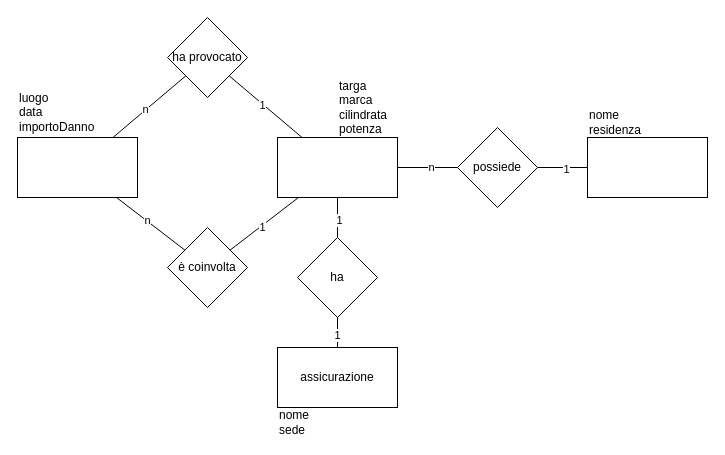
This 725x455 diagram has some shape labels left out. The centre of each missing label's shape, as x and y in pixels:
"auto" goes at (x=337, y=167).
"proprietario" goes at (x=647, y=167).
"sinistro" goes at (x=77, y=167).
